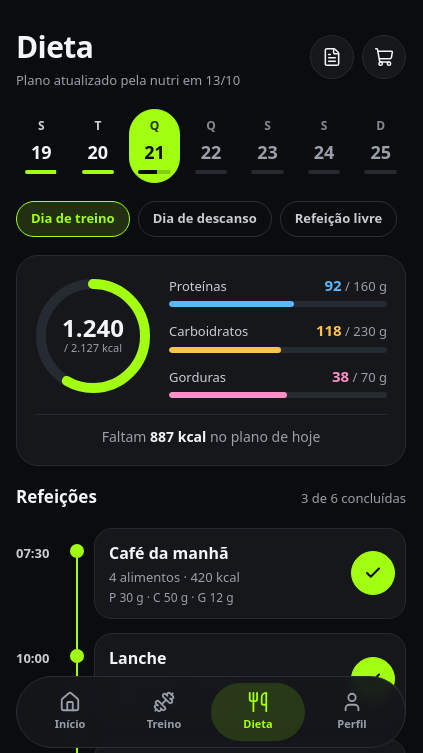
Test: Lista de compras › o carrinho da Dieta abre a lista
This screenshot has width=423, height=753.
Click the link named "Lista de compras". click: [384, 57]
box: [362,35,406,79]
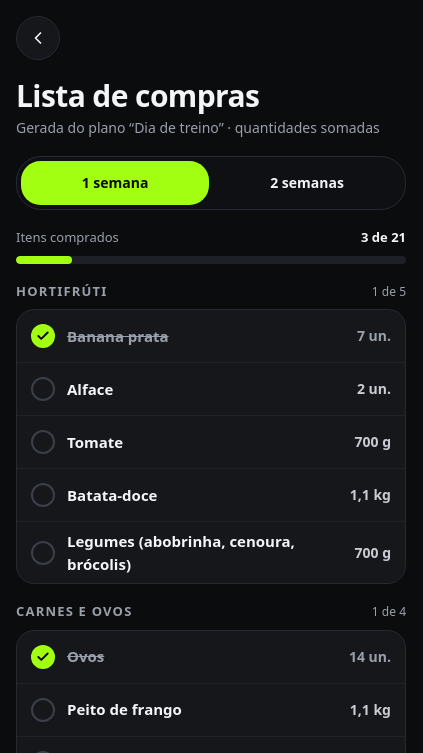
Expected: the heading "Lista de compras" is shown, [16,75,259,116]
